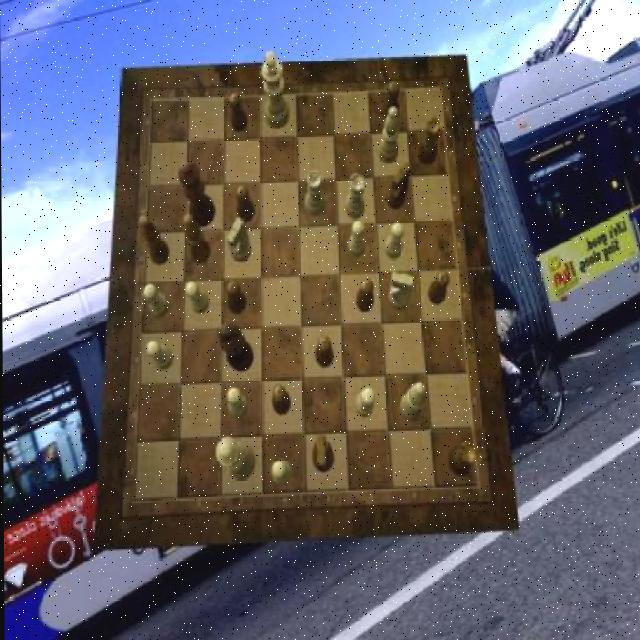bishop: (139, 216, 169, 264), (184, 213, 211, 264)
black-bishop: (217, 325, 253, 372)
black-king: (384, 163, 410, 211), (311, 435, 334, 473)
black-knight: (427, 269, 448, 304), (381, 82, 399, 122), (229, 94, 247, 134), (225, 280, 245, 315), (236, 186, 254, 222), (356, 278, 374, 312), (271, 384, 289, 416), (314, 337, 331, 369)
black-pawn: (178, 161, 215, 227)
black-queen: (417, 119, 441, 166), (447, 442, 477, 476)
black-rook: (378, 106, 399, 164), (398, 383, 424, 423)
white-bishop: (261, 51, 289, 129)
white-king: (225, 218, 249, 262), (388, 271, 413, 309)
white-knight: (142, 284, 168, 320), (186, 282, 210, 316), (144, 342, 172, 371), (383, 222, 403, 259), (225, 388, 245, 420), (349, 222, 366, 259), (355, 388, 375, 418), (270, 458, 290, 484)
white-pawn: (215, 437, 255, 479)
white-queen: (344, 174, 364, 220), (304, 171, 324, 217)
